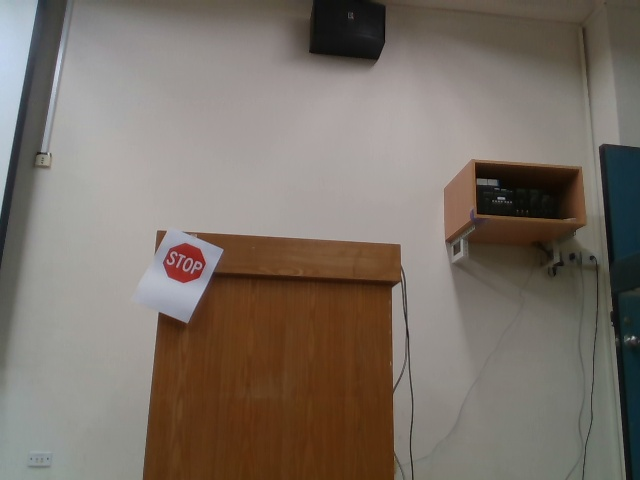stop: (159, 241, 208, 288)
